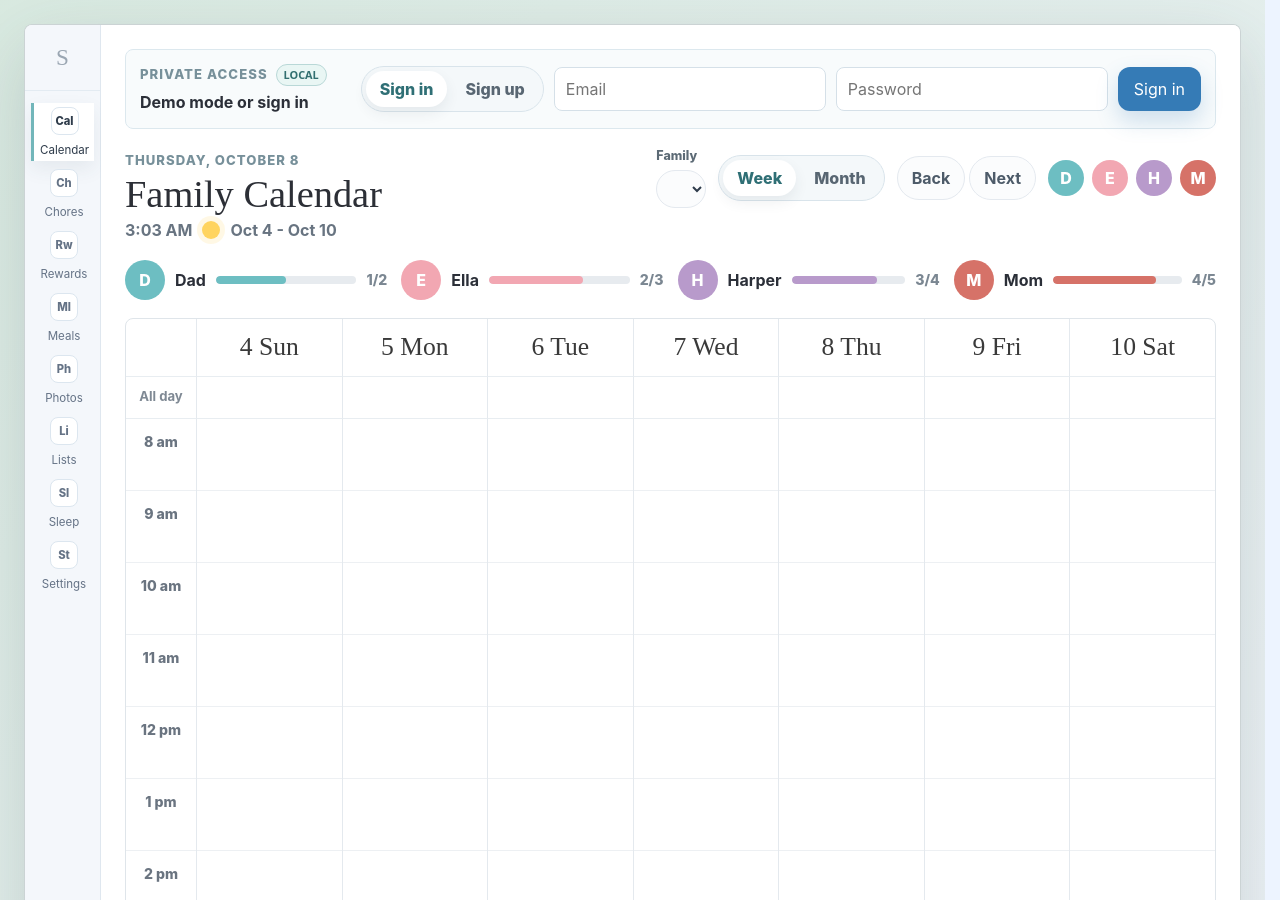
Test: App › renders sign-in access and submits credentials
Type "parent@example.com" into the field labelled "Email" at (690,89), box [554,67,826,111]
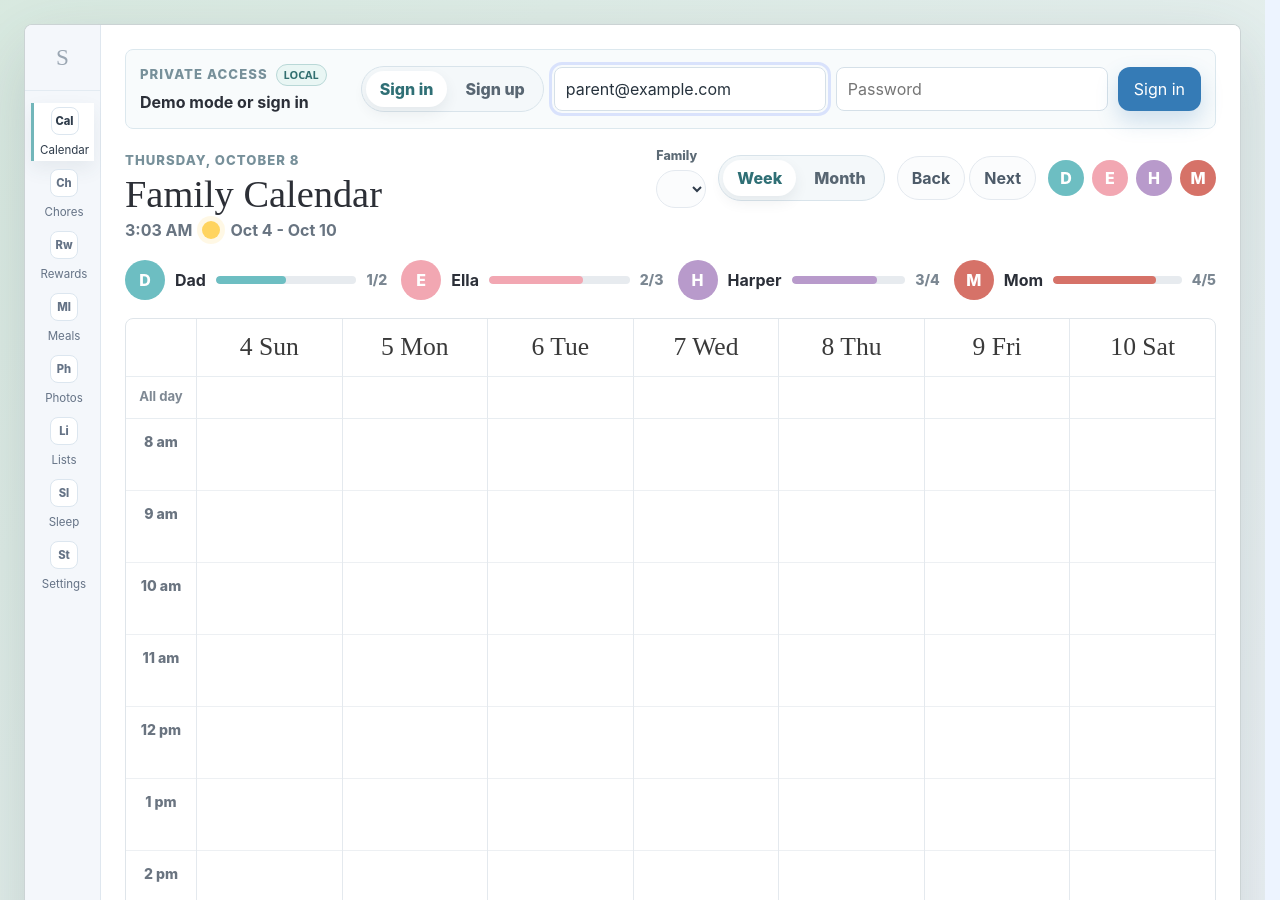
Type "password123" into the password field labelled "Password" at (972,89), box [836,67,1108,111]
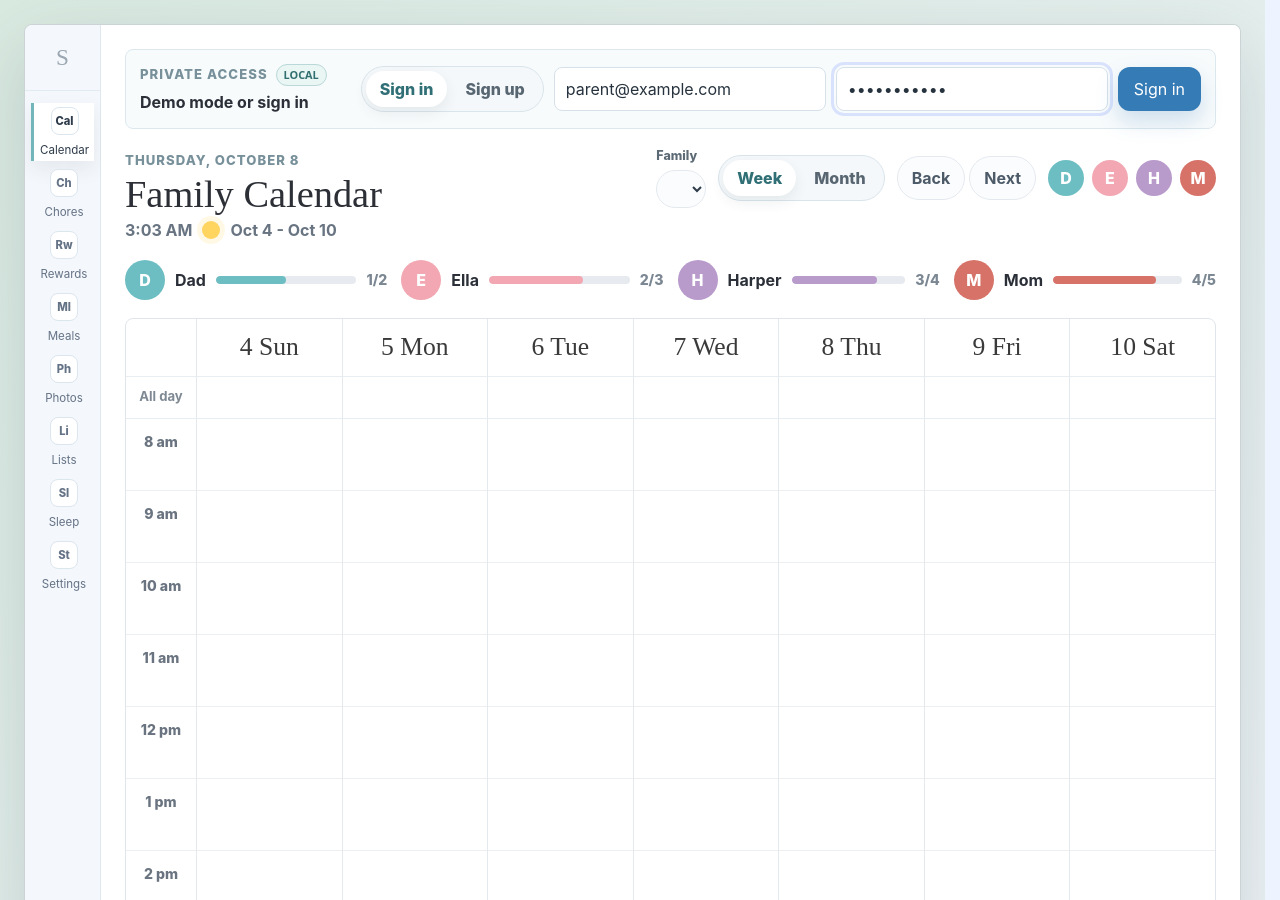
Click the 2nd button "Sign in" at (1159,89), box [1118,67,1201,111]
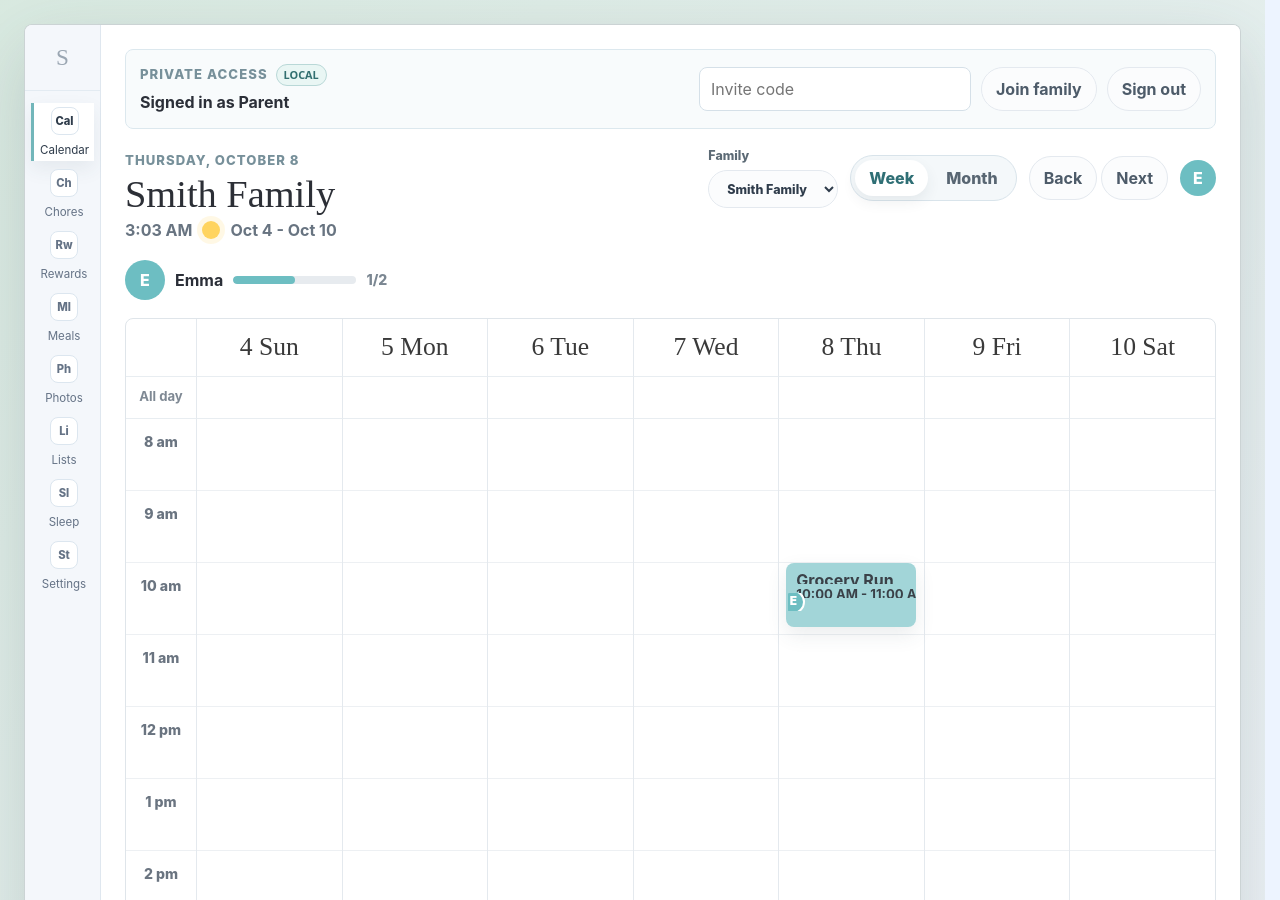
Expected: the text "Signed in as Parent" is shown, [140,92,289,112]
